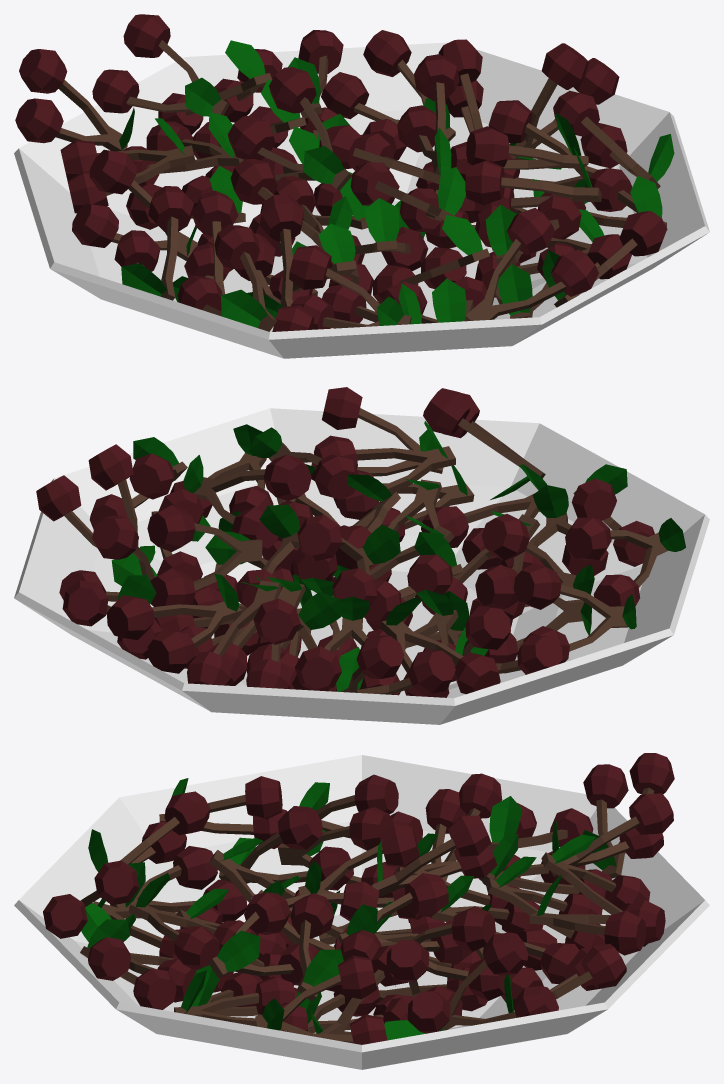
The model's file is SM_CherryBowl.fbx.
3 renders of one model, top to bottom at view 1: azimuth 30°, elevation 25°; view 2: azimuth 150°, elevation 25°; view 3: azimuth 270°, elevation 25°, orthographic. The views are drawn at different scales.
Parts seen in each view (by area): view 1: SM_CherriesBowl; view 2: SM_CherriesBowl; view 3: SM_CherriesBowl.
Boxes of the visible parts, <box> form: SM_CherriesBowl: <box>14,14,709,358</box>; SM_CherriesBowl: <box>14,387,709,724</box>; SM_CherriesBowl: <box>14,753,709,1069</box>.
Bounding box in the file's own units: 27.94 × 7.14 × 27.94.
